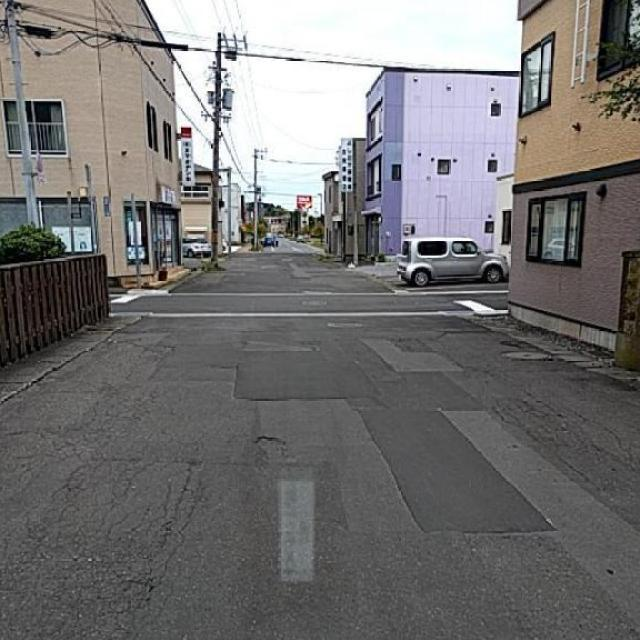Sambungan: (236, 337, 556, 538)
